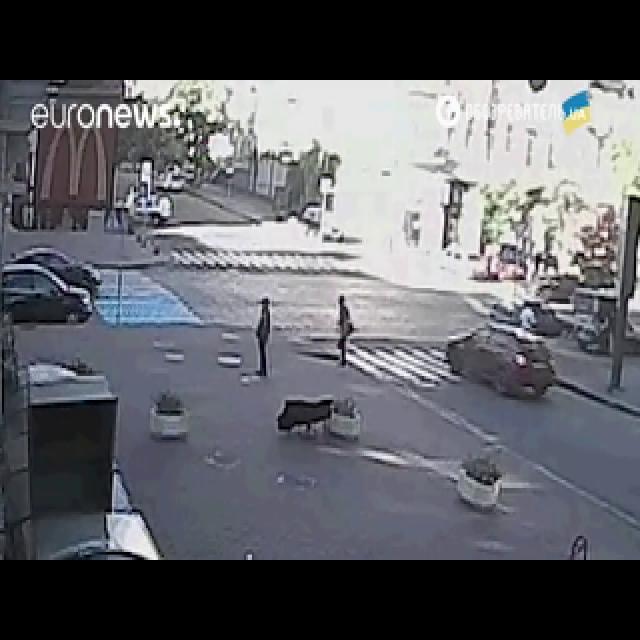explosion: (90, 79, 561, 506)
